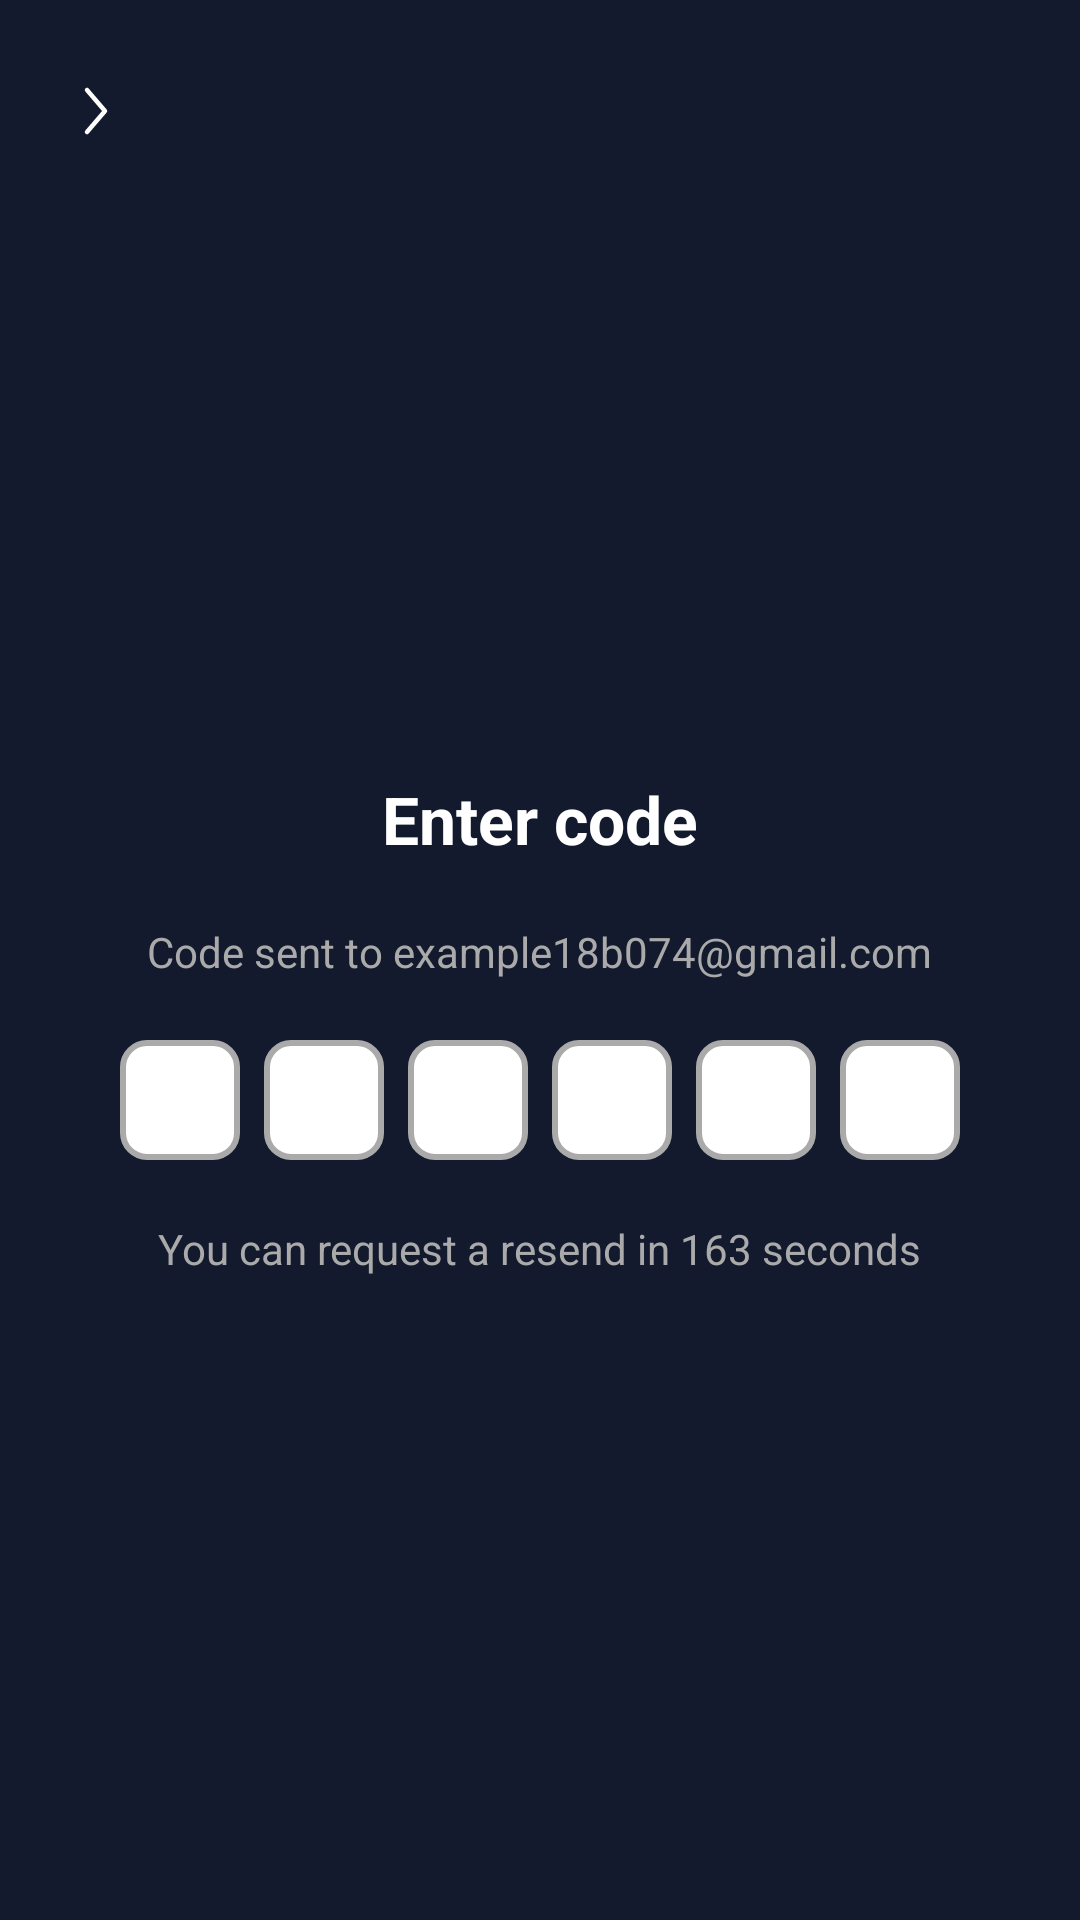

Where icons sit on this 1080 × 1920 app screen, as (x1, y1, x2, y2):
arrow: (84, 87, 108, 135)
